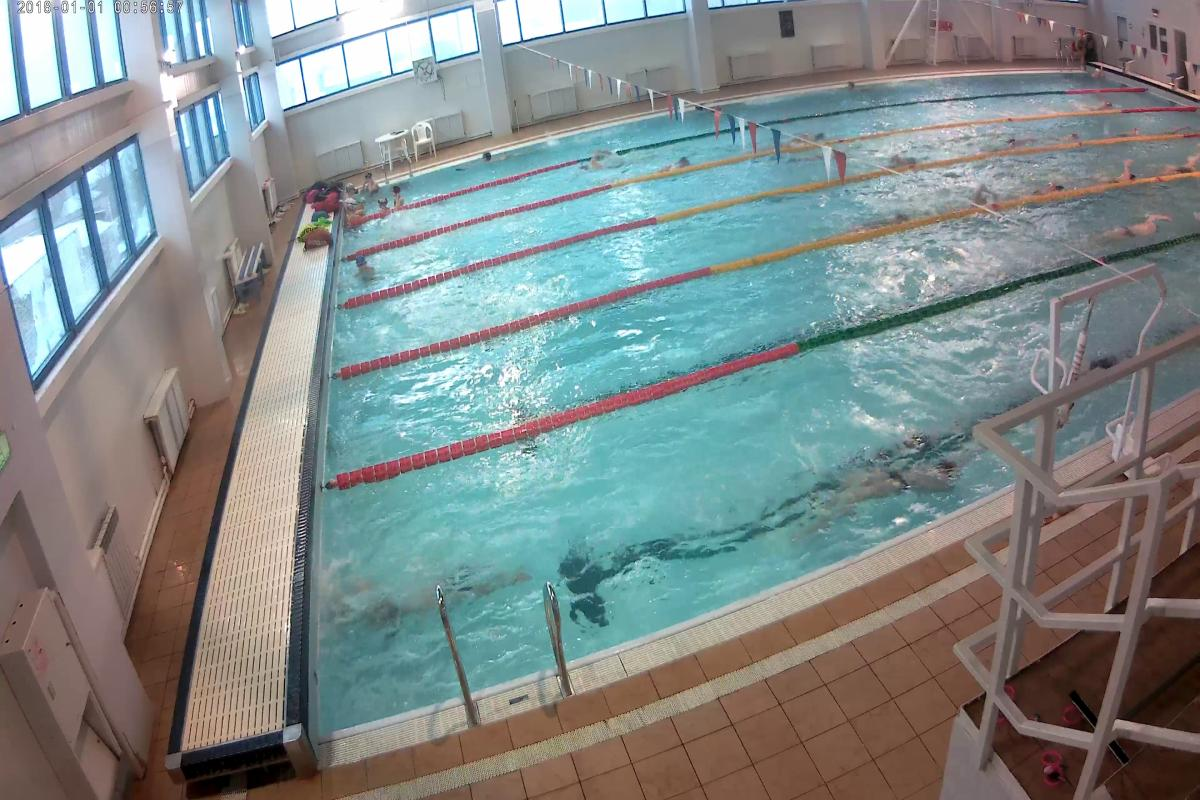swimmer: (811, 449, 962, 501), (1103, 202, 1180, 241), (1105, 154, 1141, 183), (1032, 172, 1074, 196), (348, 254, 381, 280)
